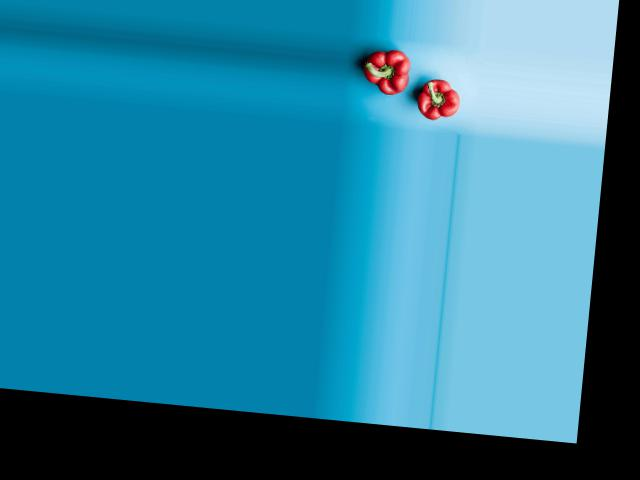bell_pepper: (356, 47, 420, 102)
